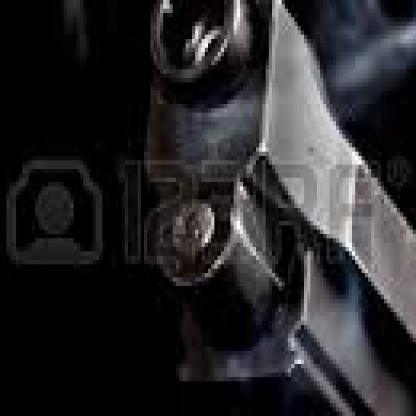gun: (131, 0, 413, 412)
